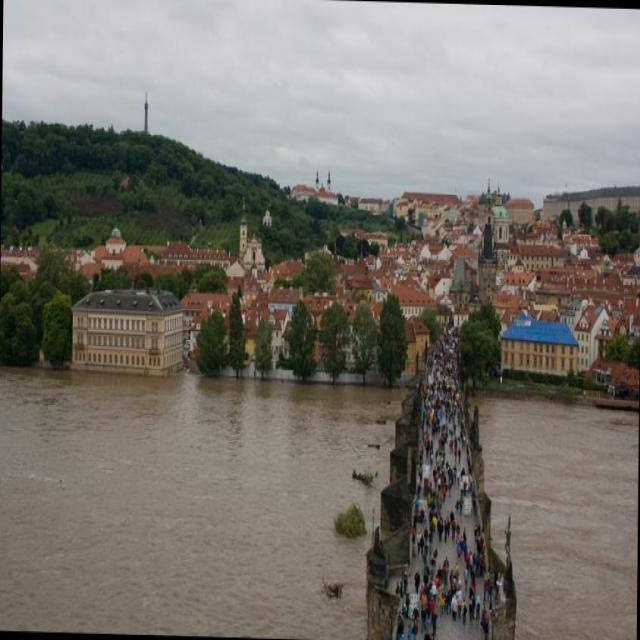flood: (0, 346, 397, 638), (485, 380, 637, 639)
